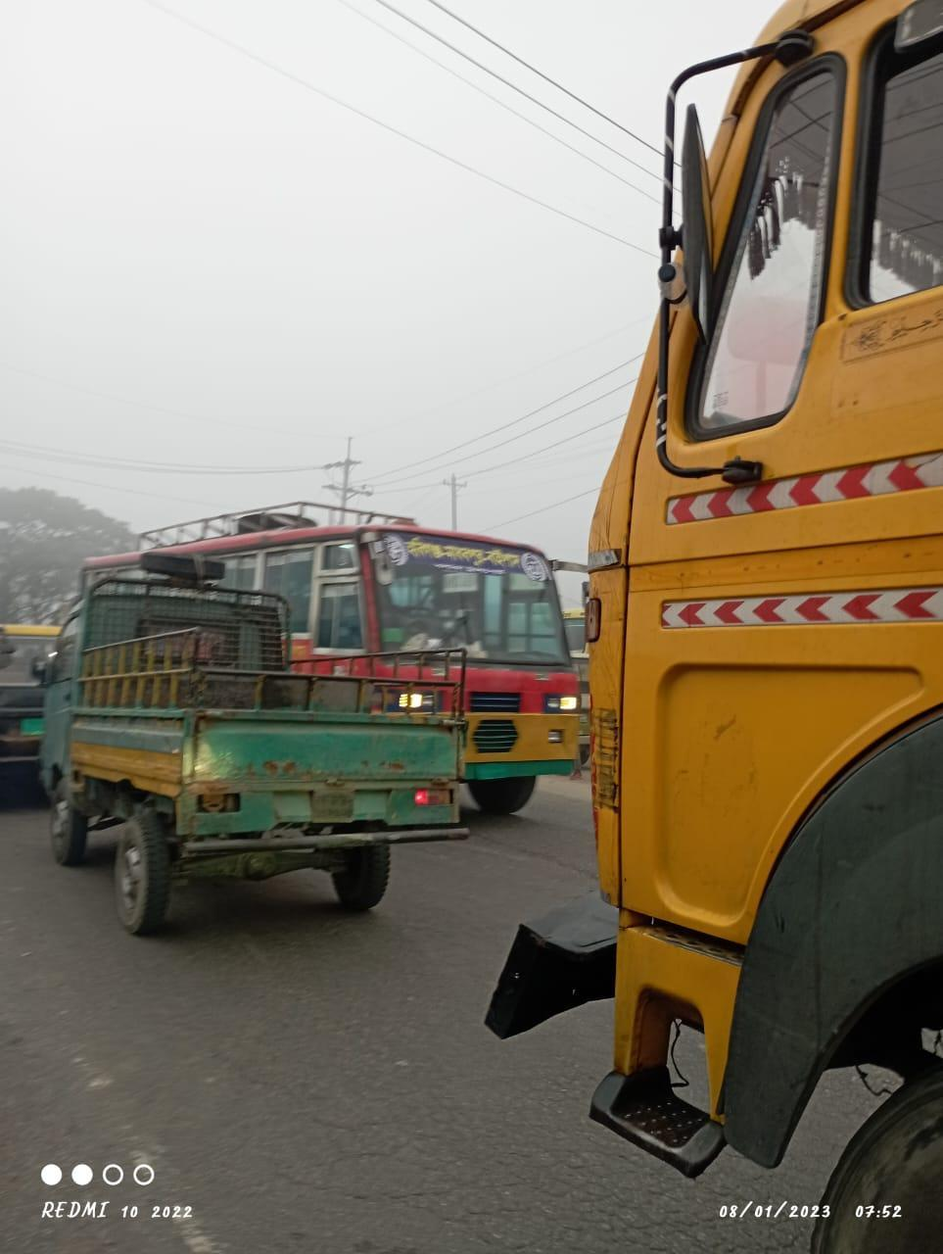Bus: (233, 486, 591, 717)
Truck: (577, 1, 943, 1250), (22, 572, 476, 929)
